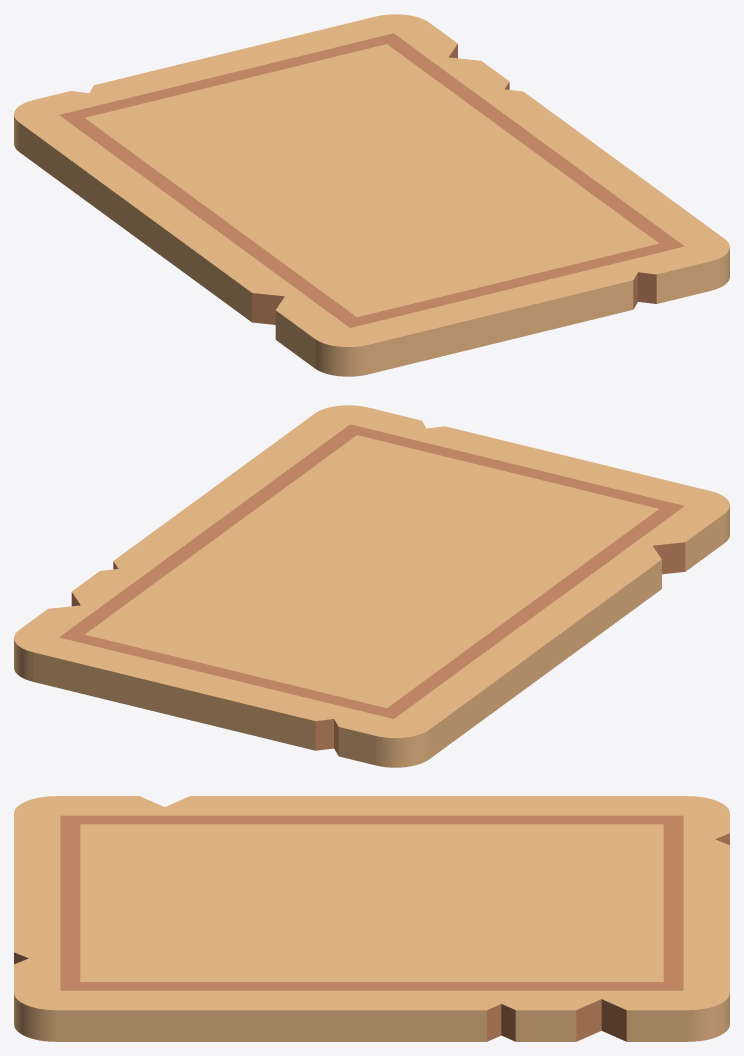
The model's file is cuttingBoard.fbx.
The picture shows the model from 3 angles, top to bottom: view 1: azimuth 30°, elevation 25°; view 2: azimuth 150°, elevation 25°; view 3: azimuth 270°, elevation 25°; orthographic projection. The views are drawn at different scales.
Visible parts, largest first — view 1: cuttingBoard; view 2: cuttingBoard; view 3: cuttingBoard.
Boxes of the visible parts, x1=… form: cuttingBoard: x1=14, y1=14, x2=729, y2=376; cuttingBoard: x1=14, y1=405, x2=729, y2=767; cuttingBoard: x1=14, y1=796, x2=729, y2=1041.
Bounding box in the file's own units: 5.8 × 0.4 × 8.2.
